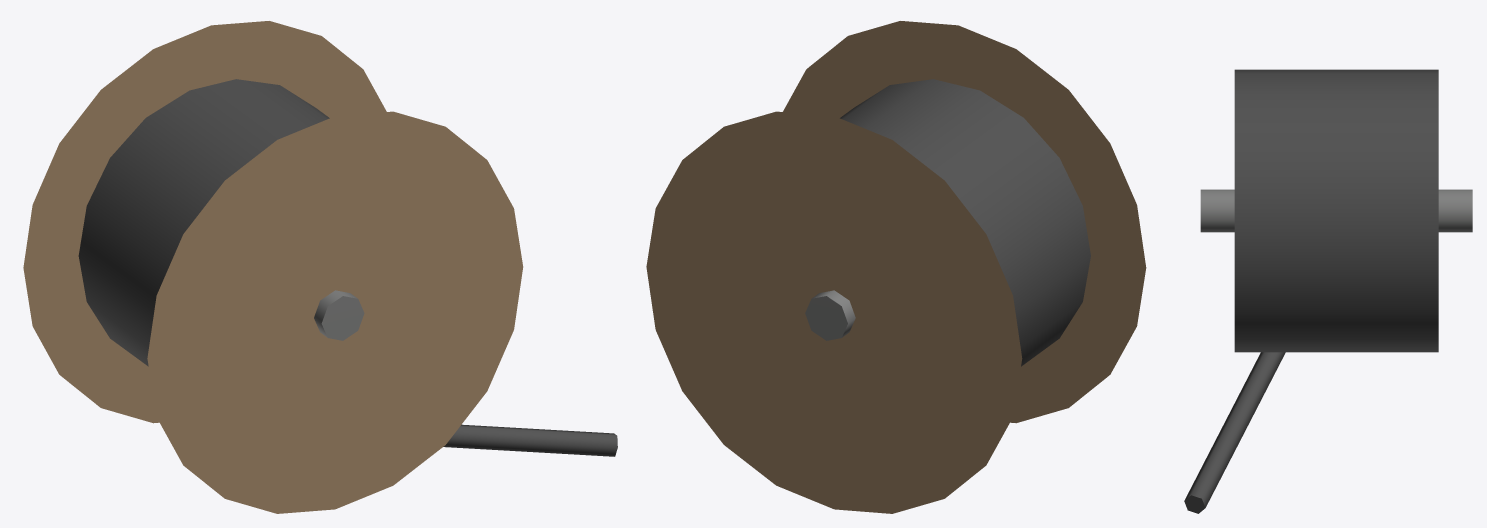
Rendered from cableReel_steel.glb.
3 views of the same model, side by side, from view 1: azimuth 30°, elevation 25°; view 2: azimuth 150°, elevation 25°; view 3: azimuth 270°, elevation 25° (orthographic). The views are drawn at different scales.
Visible parts, largest first — view 1: cableReel_steel; view 2: cableReel_steel; view 3: cableReel_steel.
Part boxes in pixels (x1,y1,x2,y2): cableReel_steel: (23,21,617,513); cableReel_steel: (646,21,1146,513); cableReel_steel: (1184,69,1472,513).
Size of the model in its own units: 0.8563 by 0.7069 by 0.5089.
